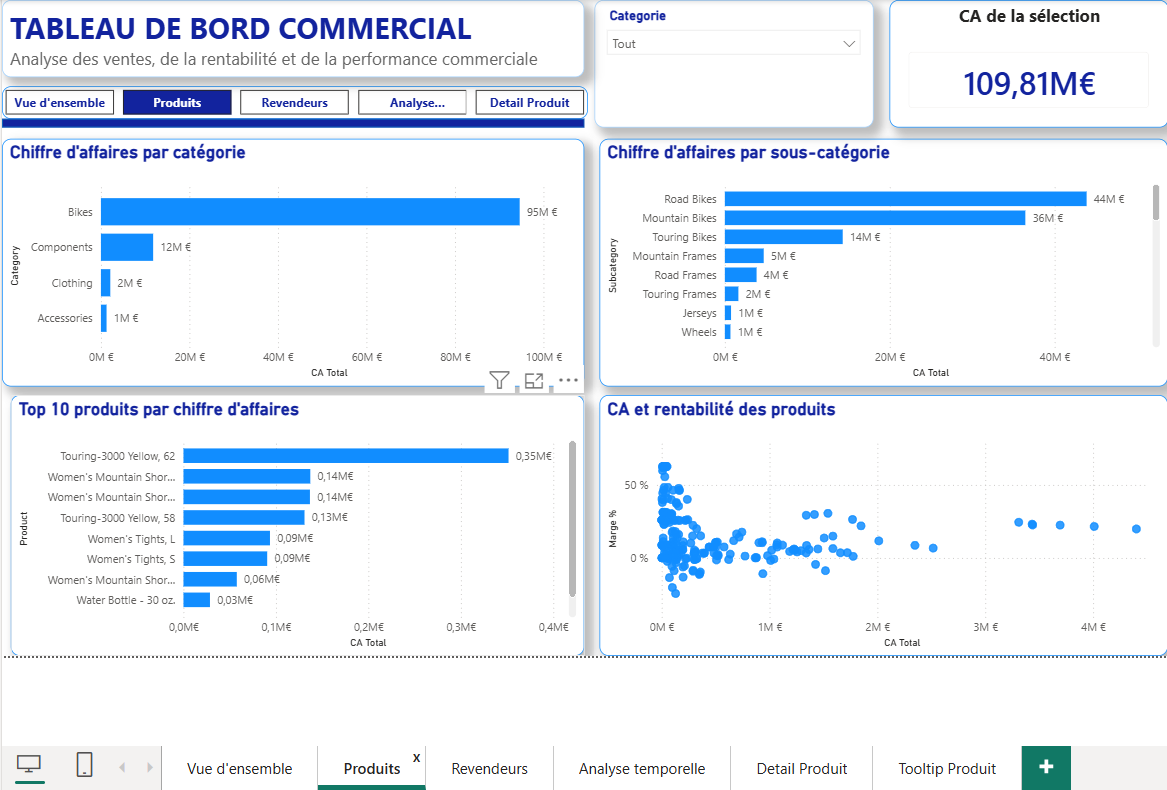

Layout of this report page (visuals, bound fields, positions):
{"tool":"powerbi","page":{"name":"Produits","canvas":[1280,720],"ordinal":1},"visuals":[{"type":"clusteredBarChart","title":"Chiffre d''affaires par catégorie","fields":{"Category":["Product_data.Category"],"Y":["Mesures.CA Total"]},"box":[0,152.3,639.5,271.7],"z":0},{"type":"clusteredBarChart","title":"Chiffre d''affaires par sous-catégorie","fields":{"Category":["Product_data.Subcategory"],"Y":["Mesures.CA Total"]},"box":[655.9,152.3,624.4,271.7],"z":1000},{"type":"clusteredBarChart","title":"Top 10 produits par chiffre d''affaires","fields":{"Category":["Product_data.Product"],"Y":["Mesures.CA Total"]},"box":[9.6,433.6,629.8,286.8],"z":2000},{"type":"scatterChart","title":"CA et rentabilité des produits","fields":{"Category":["Product_data.Product"],"X":["Mesures.CA Total"],"Y":["Mesures.Marge %"]},"box":[655.9,433.6,624.4,286.8],"z":3000},{"type":"slicer","fields":{"Values":["Product_data.Category"]},"box":[650.4,0,306,140],"z":4000},{"type":"cardVisual","title":"CA de la sélection","fields":{"Data":["Mesures.CA Total"]},"box":[974.3,0,306,140],"z":5000},{"type":"pageNavigator","box":[0,94.7,643.6,35.7],"z":6001},{"type":"shape","box":[0,130.4,639.5,9.6],"z":6003},{"type":"textbox","box":[0,0,639.5,85.1],"z":6004}]}

Visuals, with their boxes on the page's 1280x720 design canvas (x1, y1, x2, y2). These are canvas units, not pixel positions in the 1167x790 screenshot, which may show the page scaled, cropped or inside an application window:
"Chiffre d''affaires par catégorie" clusteredBarChart: region(0, 152, 640, 424)
"Chiffre d''affaires par sous-catégorie" clusteredBarChart: region(656, 152, 1280, 424)
"Top 10 produits par chiffre d''affaires" clusteredBarChart: region(10, 434, 639, 720)
"CA et rentabilité des produits" scatterChart: region(656, 434, 1280, 720)
slicer - Product_data.Category: region(650, 0, 956, 140)
"CA de la sélection" cardVisual: region(974, 0, 1280, 140)
pageNavigator: region(0, 95, 644, 130)
shape: region(0, 130, 640, 140)
textbox: region(0, 0, 640, 85)
